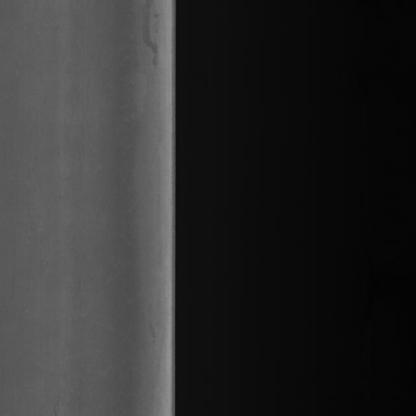water_spot: (133, 2, 166, 86)
